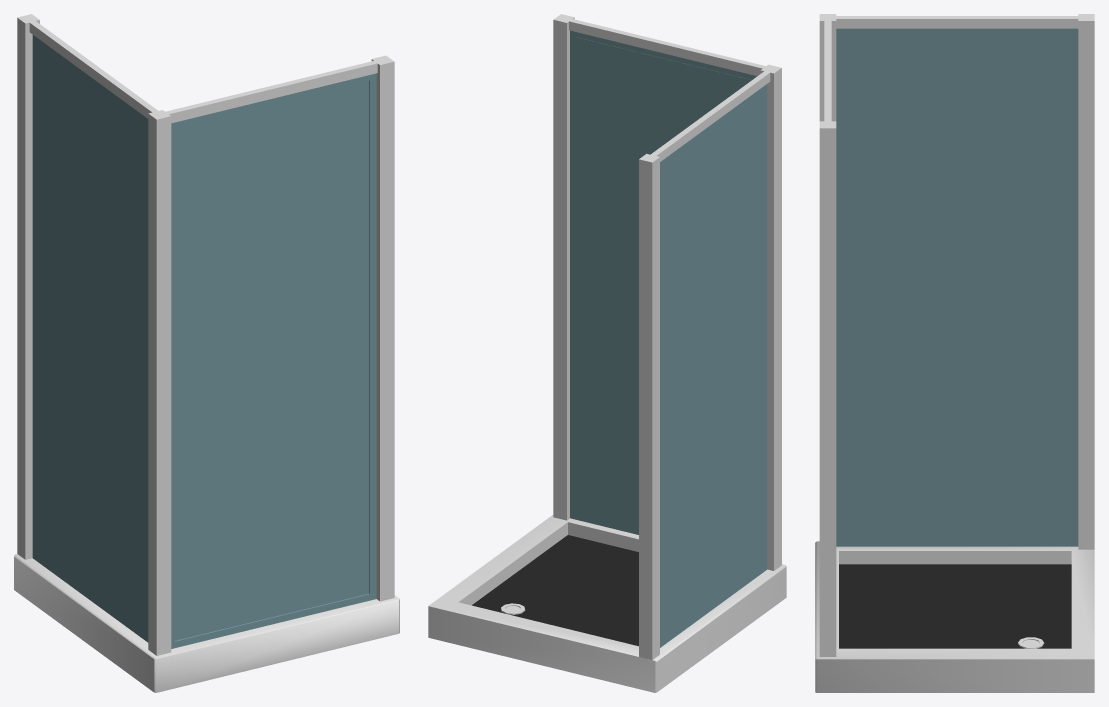
Rendered from OLSSE22.FBX.
3 views of the same model, side by side, from view 1: azimuth 30°, elevation 25°; view 2: azimuth 150°, elevation 25°; view 3: azimuth 270°, elevation 25° (orthographic). The views are drawn at different scales.
Visible parts, largest first — view 1: OLSSE22; view 2: OLSSE22; view 3: OLSSE22.
Part boxes in pixels (box(x1,y1,x2,y2)): OLSSE22: box(14, 14, 399, 692); OLSSE22: box(428, 14, 786, 692); OLSSE22: box(815, 14, 1094, 692).
Bounding box in the file's own units: 2286 × 5080 × 2286.
